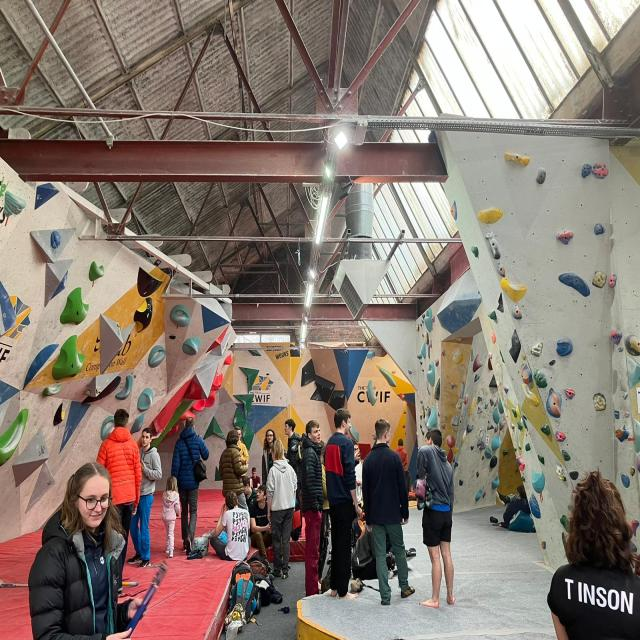Crimp: (533, 368, 548, 389), (554, 428, 568, 444), (512, 302, 523, 320), (495, 261, 506, 278), (593, 222, 604, 236), (560, 452, 572, 464), (569, 469, 580, 481), (564, 388, 576, 396), (548, 359, 556, 366)
Jug: (555, 230, 574, 246), (470, 245, 480, 260)
Pinch: (484, 228, 504, 260), (478, 205, 505, 224), (503, 151, 532, 168)
Pocket: (592, 161, 608, 179), (592, 392, 606, 412), (593, 270, 606, 289)
Sloper: (0, 402, 31, 471), (51, 330, 88, 383), (80, 372, 127, 404), (57, 287, 90, 330), (556, 269, 592, 298), (136, 262, 161, 302), (133, 297, 154, 334), (502, 275, 528, 304), (112, 372, 136, 402), (4, 189, 27, 219), (169, 302, 192, 330), (546, 388, 563, 420), (136, 385, 156, 412), (148, 341, 166, 371), (181, 334, 203, 356), (378, 366, 397, 390), (127, 412, 146, 435), (528, 492, 542, 522), (531, 471, 547, 497), (88, 261, 105, 283), (557, 338, 573, 358), (426, 406, 438, 429), (209, 373, 223, 392), (451, 348, 465, 366), (472, 353, 484, 374), (424, 308, 434, 332), (368, 380, 378, 404), (192, 396, 206, 413), (427, 360, 435, 387), (489, 436, 502, 452), (180, 409, 196, 420), (445, 447, 455, 464), (445, 433, 456, 448), (489, 475, 501, 488), (492, 408, 501, 424), (223, 354, 233, 368), (420, 341, 427, 360), (474, 488, 482, 503), (366, 351, 377, 361), (484, 449, 492, 458)
